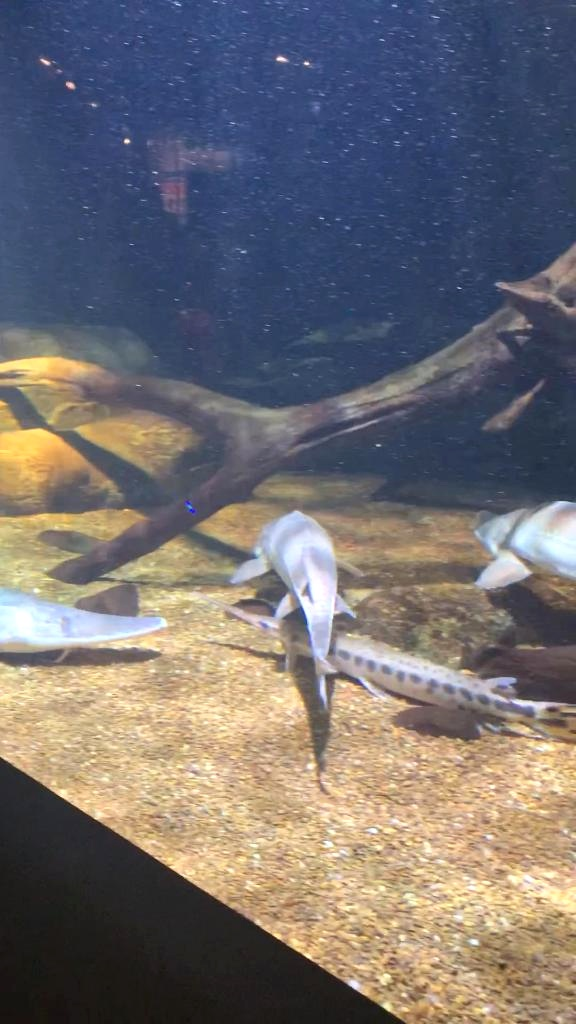fish: (191, 588, 575, 746), (0, 588, 166, 656)
shark: (234, 502, 360, 710)
